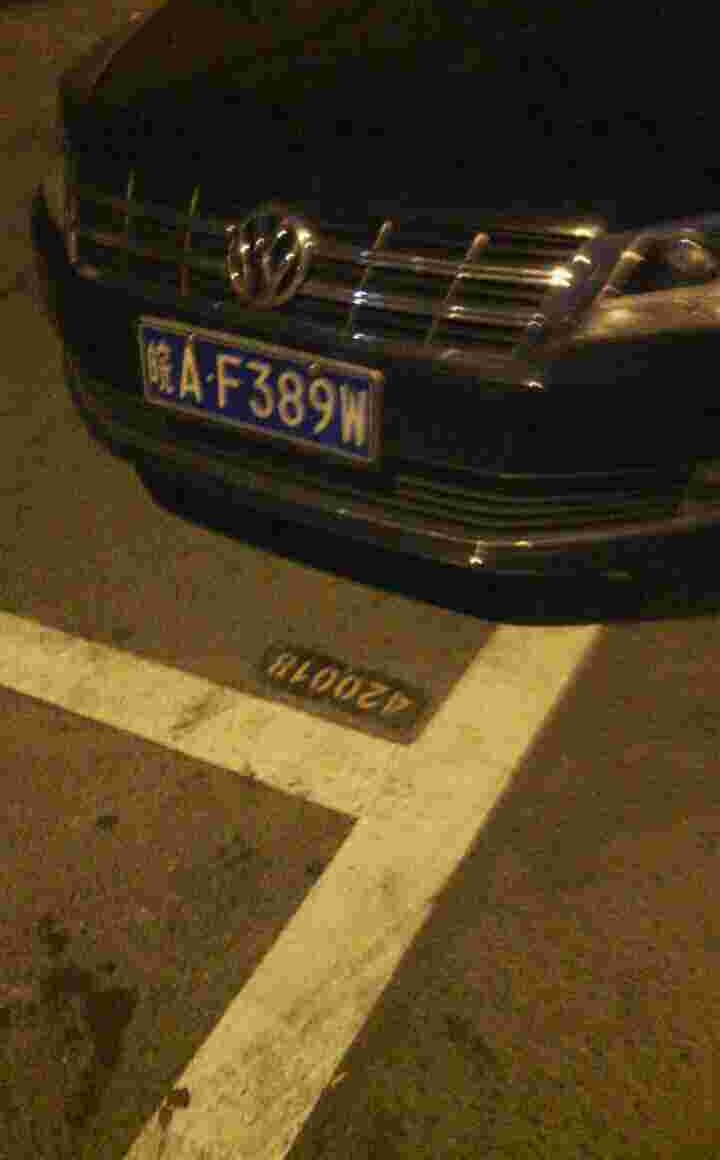license_plate: (125, 320, 387, 446)
